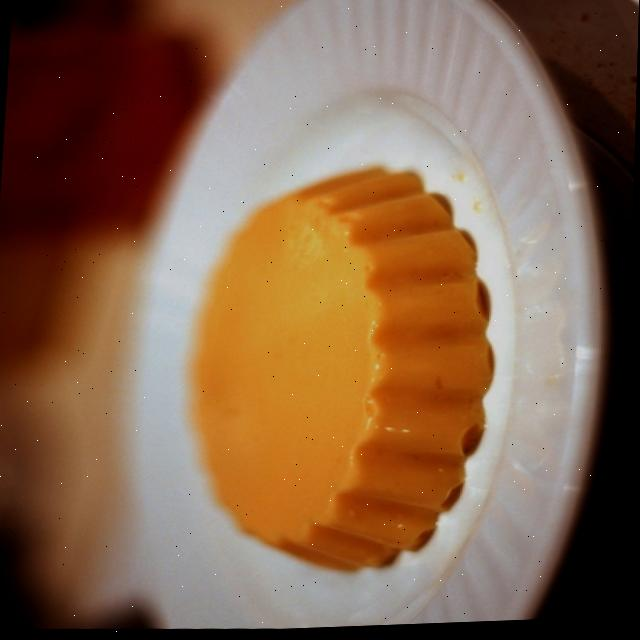蛋糕甜品: (73, 0, 631, 637)
